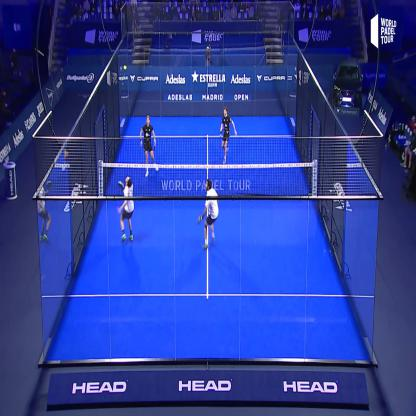ball: (122, 61, 130, 78)
